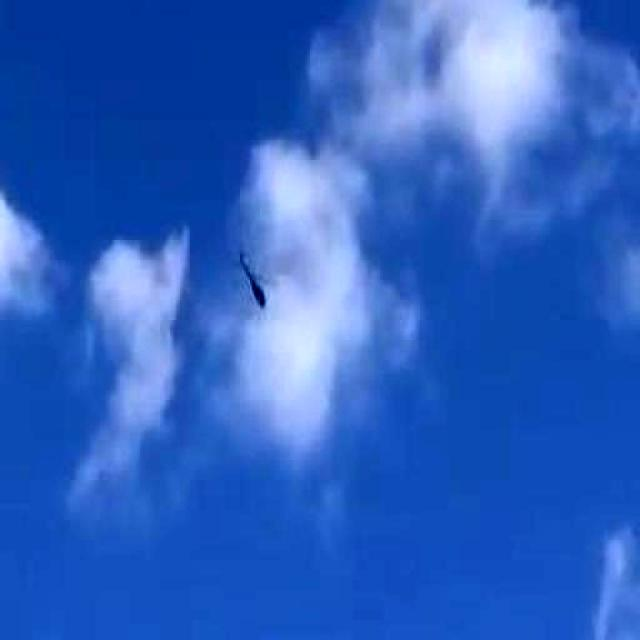drone: (211, 232, 289, 325)
